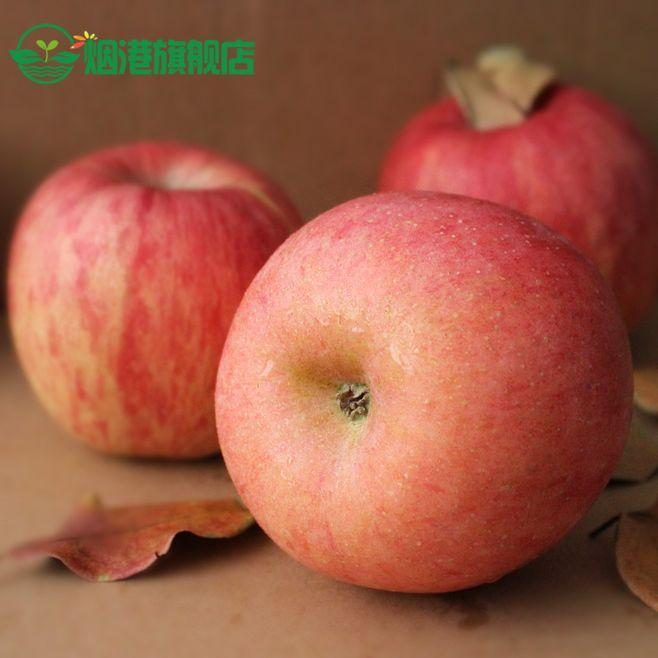apple: (199, 195, 625, 593), (8, 146, 301, 475), (377, 52, 655, 358)
